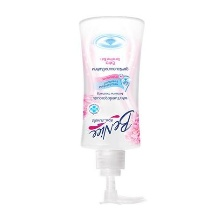cleaning_solution: (74, 12, 153, 208)
